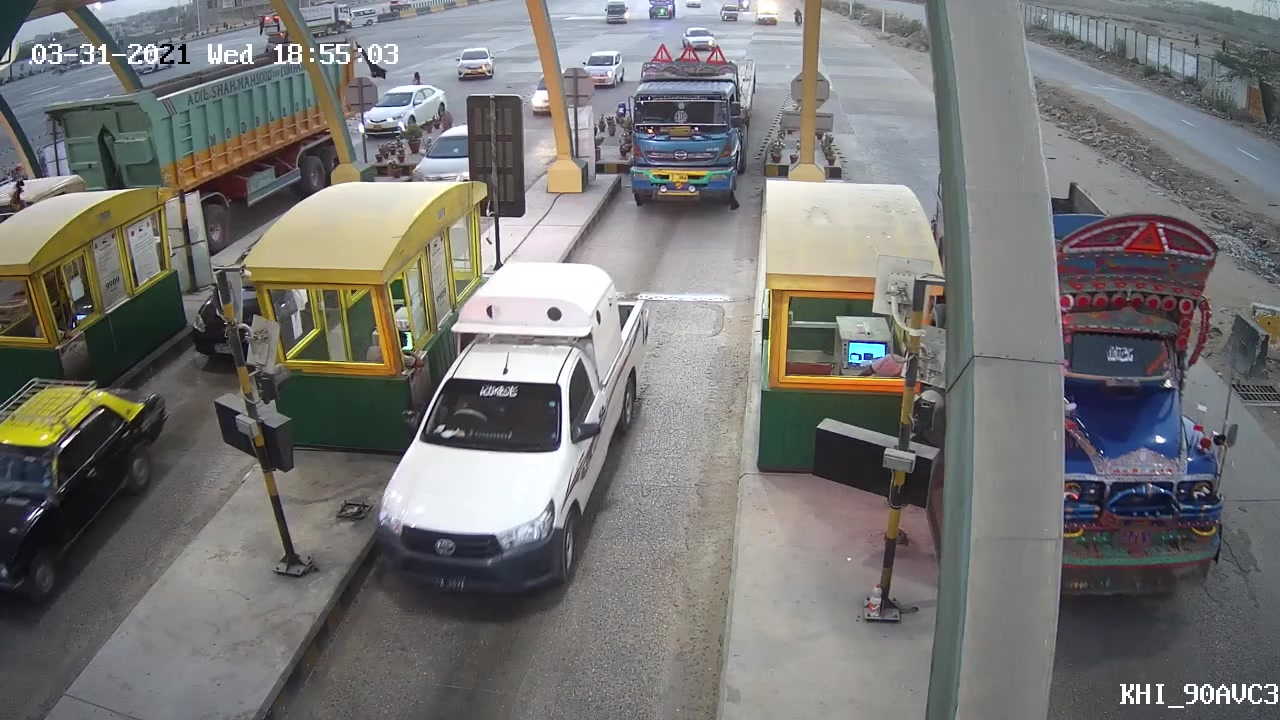F1: (372, 256, 663, 596)
F6: (623, 35, 760, 214)
